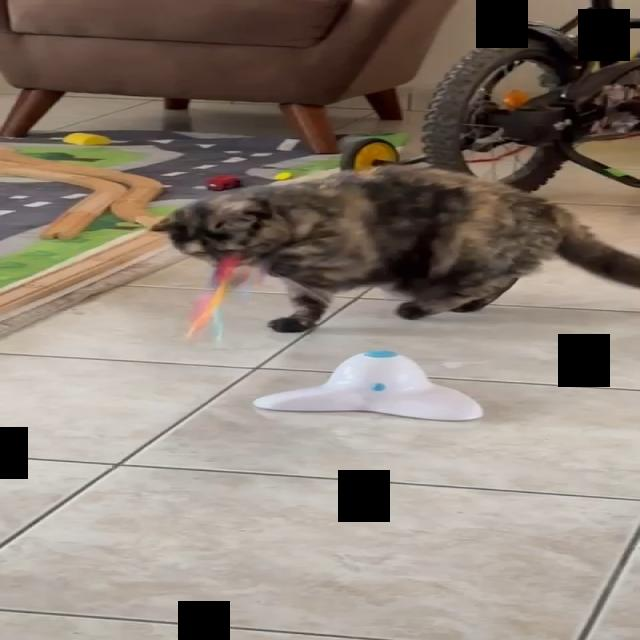authorized: (149, 164, 639, 333)
